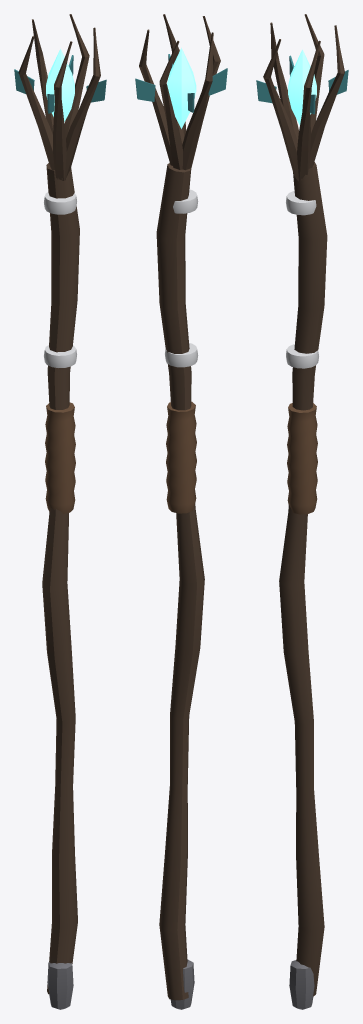
Rendered from deepwater_staff.glb.
3 renders of one model, left to right at view 1: azimuth 30°, elevation 25°; view 2: azimuth 150°, elevation 25°; view 3: azimuth 330°, elevation 25°, orthographic.
Parts seen in each view (by area): view 1: deepwater_staff; view 2: deepwater_staff; view 3: deepwater_staff.
Boxes of the visible parts, x1,y1,x2,y2 form: deepwater_staff: (14, 14, 106, 1009); deepwater_staff: (135, 14, 227, 1009); deepwater_staff: (256, 14, 348, 1009).
Bounding box in the file's own units: 0.1467 × 1.92 × 0.141.
